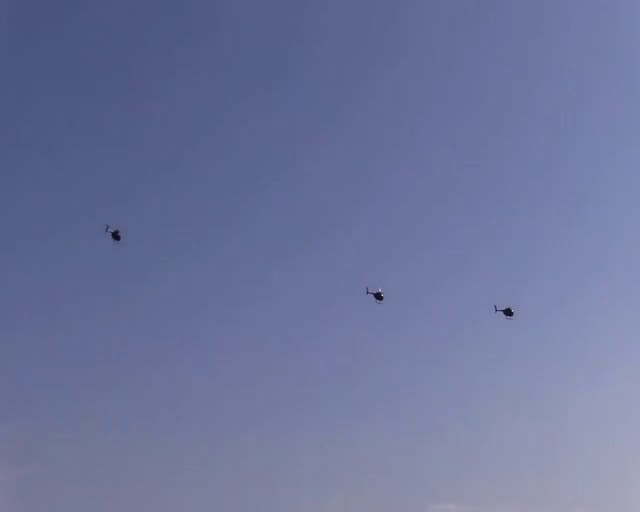HELICOPTER: (365, 286, 384, 303)
